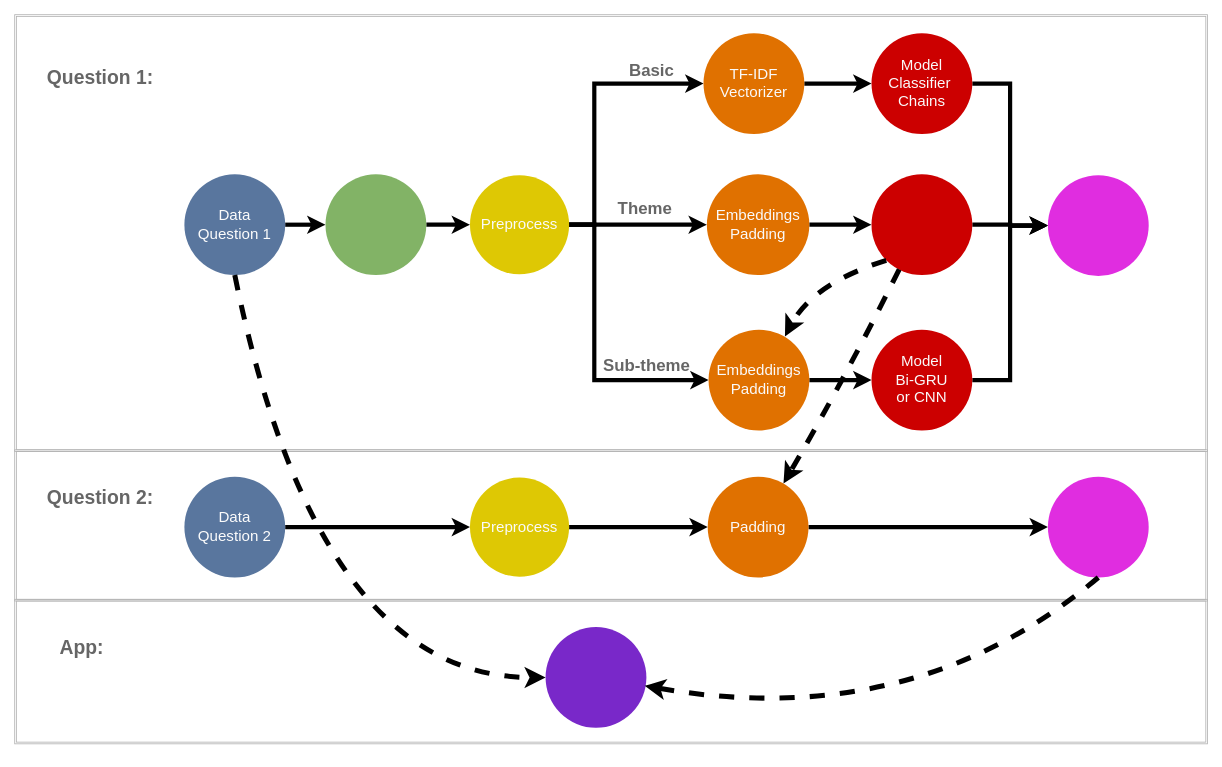
Image size: 1222x767. Some labels were removed from this diagram. The centre of each missing label's shape, as x and y in pixels:
"App" belongs at [595,677].
"Model Bi-GRU" belongs at [921,224].
"Predictions" belongs at [1097,526].
"Results & Evaluation" belongs at [1097,225].
"Split" belongs at [375,224].
